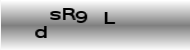9: (74, 10, 88, 23)
L: (103, 10, 116, 25)
R: (61, 7, 76, 21)
d: (34, 24, 47, 39)
s: (49, 9, 61, 20)
